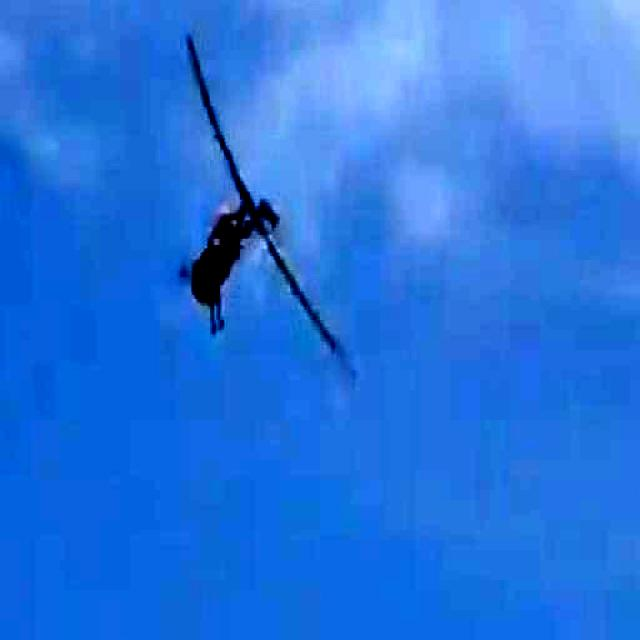drone: (175, 29, 356, 392)
